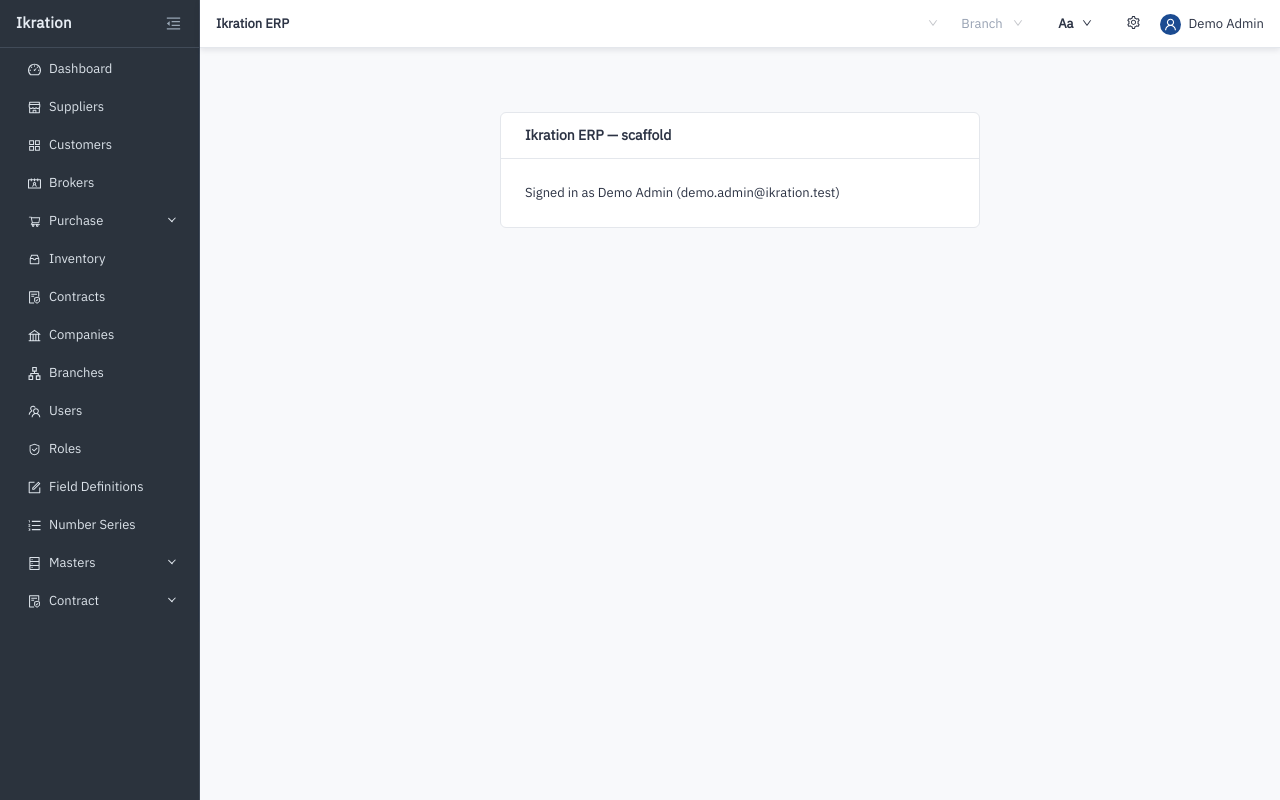
Test: navigation › Close Settings returns to the operate app
The image size is (1280, 800).
Click the button named "Settings": (1134, 23) [1120,9,1148,37]
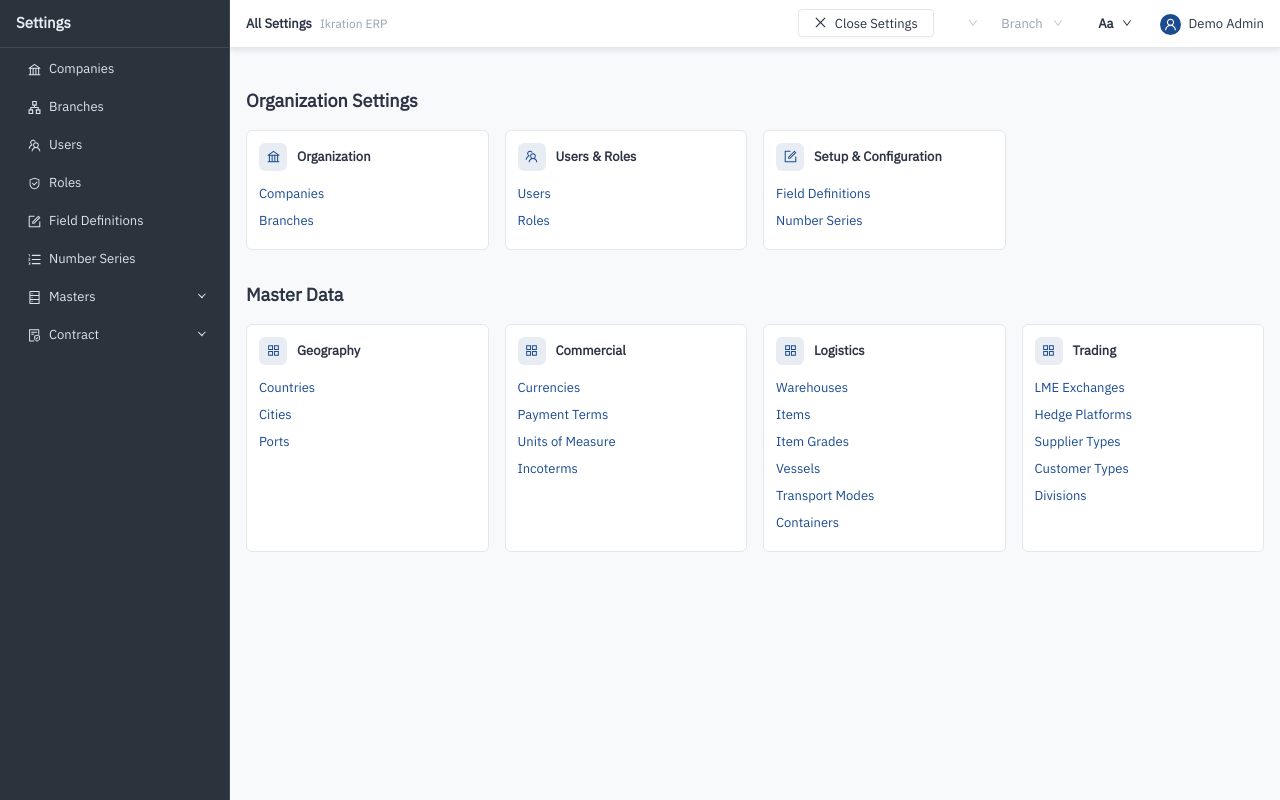
Click the button "Close Settings": (866, 23) [798,9,934,37]
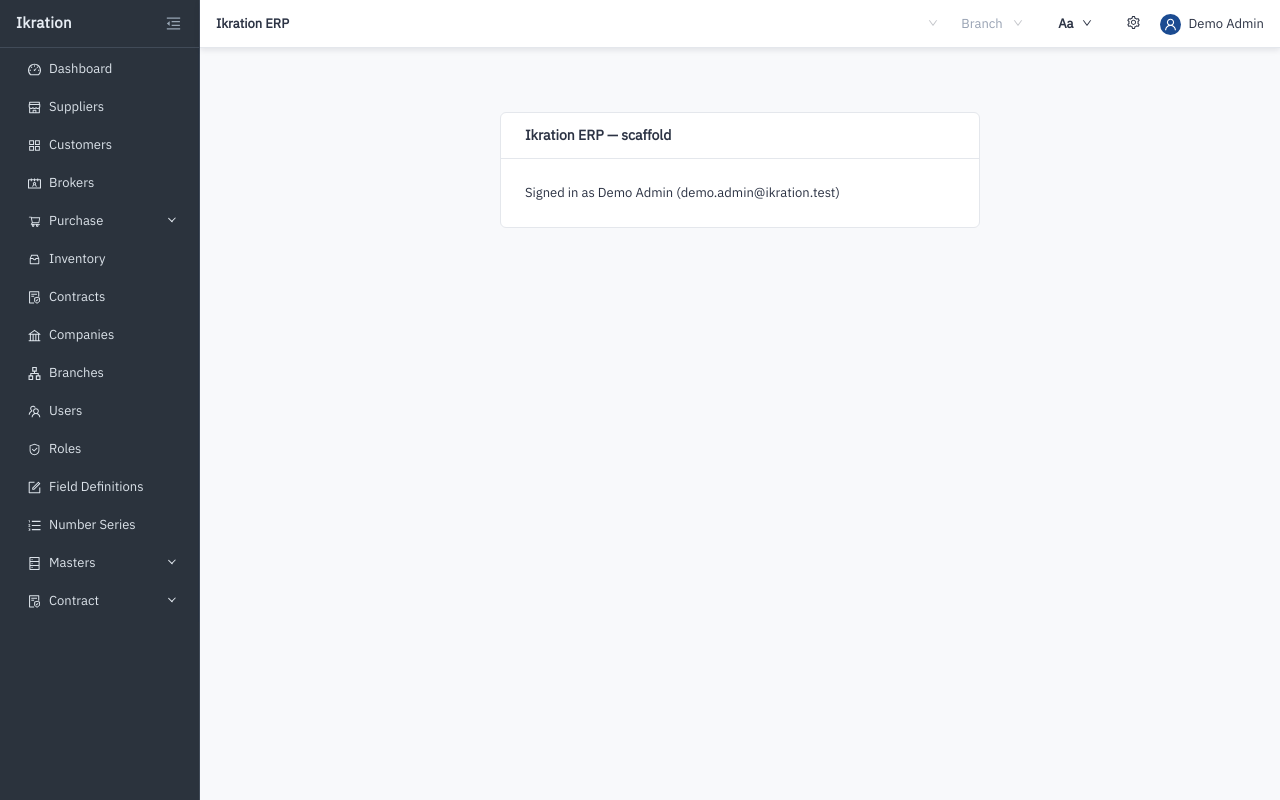
Expected: the text "Purchase" is shown, [49,212,103,229]
Expected: the text "All Settings" is gone
